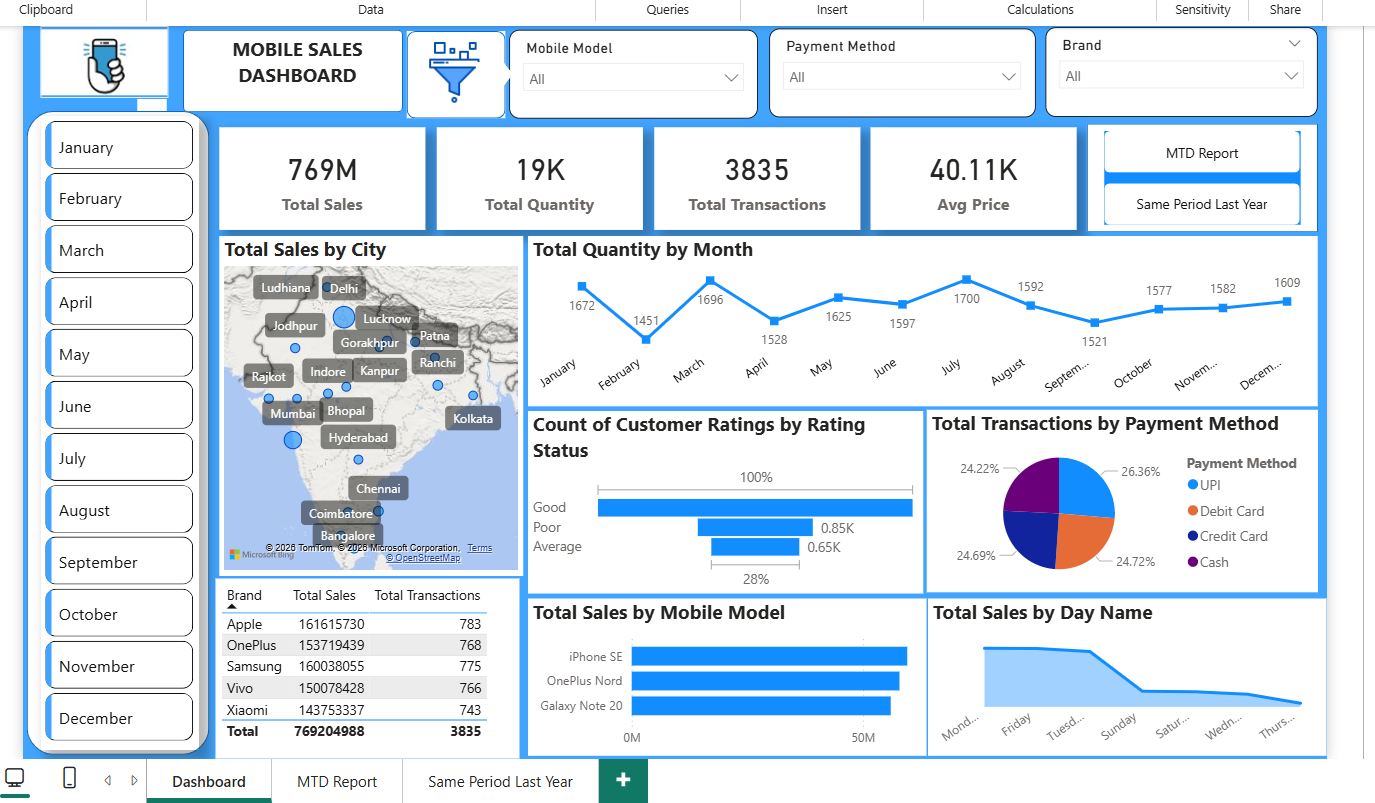

Layout of this report page (visuals, bound fields, positions):
{"tool":"powerbi","page":{"name":"Dashboard","canvas":[1280,720],"ordinal":0},"visuals":[{"type":"image","box":[17.2,0,125.2,71.2],"z":0},{"type":"shape","box":[3.7,83.4,179.1,631.9],"z":1000},{"type":"advancedSlicerVisual","fields":{"Values":["Custom_Calender.Date.Variation.Date Hierarchy.Month"]},"box":[17.2,88.3,155.8,622.1],"z":2000},{"type":"card","fields":{"Values":["Mobile_Sales_Data.Total Sales"]},"box":[192.6,99.4,202.5,100.6],"z":3000},{"type":"card","fields":{"Values":["Mobile_Sales_Data.Total Quantity"]},"box":[406.1,99.4,202.5,100.6],"z":4000},{"type":"card","fields":{"Values":["Mobile_Sales_Data.Total Transactions"]},"box":[619.6,99.4,202.5,100.6],"z":5000},{"type":"card","fields":{"Values":["Mobile_Sales_Data.Avg Price"]},"box":[831.9,99.4,202.5,100.6],"z":6000},{"type":"lineChart","title":"Total Quantity by Month","fields":{"Category":["Custom_Calender.Date.Variation.Date Hierarchy.Month"],"Y":["Sum(Mobile_Sales_Data.Units Sold)"]},"box":[495.7,206.1,775.5,166.9],"z":7000},{"type":"map","fields":{"Category":["Mobile_Sales_Data.City"],"Size":["Mobile_Sales_Data.Total Sales"]},"box":[192.6,206.1,298.2,332.5],"z":8000},{"type":"funnel","fields":{"Category":["Mobile_Sales_Data.Rating Status"],"Y":["CountNonNull(Mobile_Sales_Data.Customer Ratings)"]},"box":[495.7,377.9,387.7,179.1],"z":9000},{"type":"pieChart","fields":{"Category":["Mobile_Sales_Data.Payment Method"],"Y":["Mobile_Sales_Data.Total Transactions"]},"box":[887.1,376.7,384.1,179.1],"z":10000},{"type":"clusteredBarChart","fields":{"Category":["Mobile_Sales_Data.Mobile Model"],"Y":["Mobile_Sales_Data.Total Sales"]},"box":[492,562,391.4,154.6],"z":11000},{"type":"areaChart","fields":{"Category":["Custom_Calender.Day Name"],"Y":["Mobile_Sales_Data.Total Sales"]},"box":[885.9,562,391.4,154.6],"z":12000},{"type":"tableEx","fields":{"Values":["Mobile_Sales_Data.Brand","Mobile_Sales_Data.Total Sales","Mobile_Sales_Data.Total Transactions"]},"box":[189,542.3,298.2,176.7],"z":13000},{"type":"slicer","fields":{"Values":["Mobile_Sales_Data.Mobile Model"]},"box":[477.3,3.7,244.2,87.1],"z":14000},{"type":"slicer","fields":{"Values":["Mobile_Sales_Data.Payment Method"]},"box":[732.5,2.5,261.4,87.1],"z":15000},{"type":"slicer","fields":{"Values":["Mobile_Sales_Data.Brand"]},"box":[1003.7,1.2,267.5,88.3],"z":16000},{"type":"shape","box":[376.7,4.9,96.9,85.9],"z":17000},{"type":"image","box":[373,14.7,100.6,61.4],"z":18000},{"type":"shape","box":[444.2,23.3,36.8,47.9],"z":19000},{"type":"shape","box":[157.1,3.7,216,81],"z":20000},{"type":"textbox","box":[179.1,4.9,180.4,71.2],"z":21000},{"type":"shape","box":[1044.2,95.7,227,106.7],"z":22000},{"type":"pageNavigator","box":[1061.4,103.1,192.6,92],"z":23000}]}

Visuals, with their boxes in screenshot pixels (x1, y1, x2, y2):
image: x1=35 y1=21 x2=163 y2=94
shape: x1=22 y1=107 x2=205 y2=752
advancedSlicerVisual - Custom_Calender.Date.Variation.Date Hierarchy.Month: x1=35 y1=112 x2=195 y2=747
card - Mobile_Sales_Data.Total Sales: x1=215 y1=123 x2=422 y2=226
card - Mobile_Sales_Data.Total Quantity: x1=433 y1=123 x2=640 y2=226
card - Mobile_Sales_Data.Total Transactions: x1=651 y1=123 x2=858 y2=226
card - Mobile_Sales_Data.Avg Price: x1=868 y1=123 x2=1075 y2=226
"Total Quantity by Month" lineChart: x1=524 y1=232 x2=1317 y2=403
map - Mobile_Sales_Data.City x Mobile_Sales_Data.Total Sales: x1=215 y1=232 x2=519 y2=572
funnel - Mobile_Sales_Data.Rating Status x CountNonNull(Mobile_Sales_Data.Customer Ratings): x1=524 y1=408 x2=921 y2=591
pieChart - Mobile_Sales_Data.Payment Method x Mobile_Sales_Data.Total Transactions: x1=924 y1=406 x2=1317 y2=589
clusteredBarChart - Mobile_Sales_Data.Mobile Model x Mobile_Sales_Data.Total Sales: x1=521 y1=596 x2=921 y2=754
areaChart - Custom_Calender.Day Name x Mobile_Sales_Data.Total Sales: x1=923 y1=596 x2=1323 y2=754
tableEx - Mobile_Sales_Data.Brand x Mobile_Sales_Data.Total Sales: x1=211 y1=576 x2=516 y2=756
slicer - Mobile_Sales_Data.Mobile Model: x1=506 y1=25 x2=755 y2=114
slicer - Mobile_Sales_Data.Payment Method: x1=766 y1=24 x2=1033 y2=113
slicer - Mobile_Sales_Data.Brand: x1=1043 y1=23 x2=1317 y2=113
shape: x1=403 y1=26 x2=502 y2=114
image: x1=399 y1=37 x2=502 y2=99
shape: x1=472 y1=45 x2=509 y2=94
shape: x1=178 y1=25 x2=399 y2=108
textbox: x1=201 y1=26 x2=385 y2=99
shape: x1=1085 y1=119 x2=1317 y2=228
pageNavigator: x1=1102 y1=127 x2=1299 y2=221
